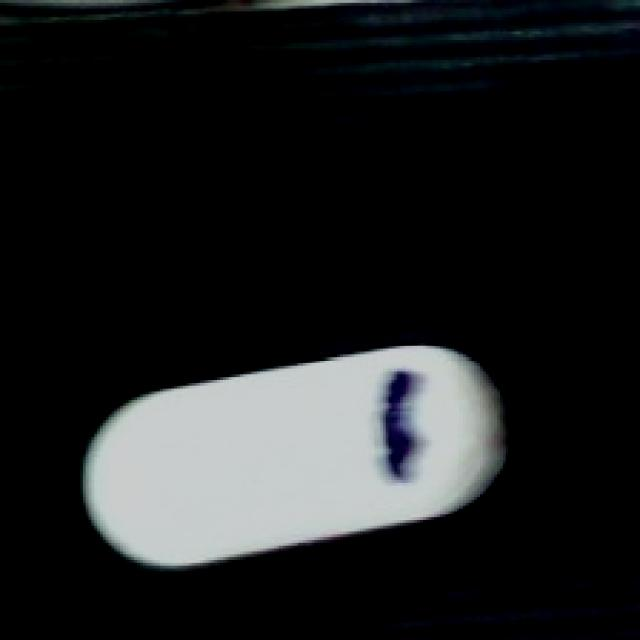defected: (77, 348, 523, 568)
